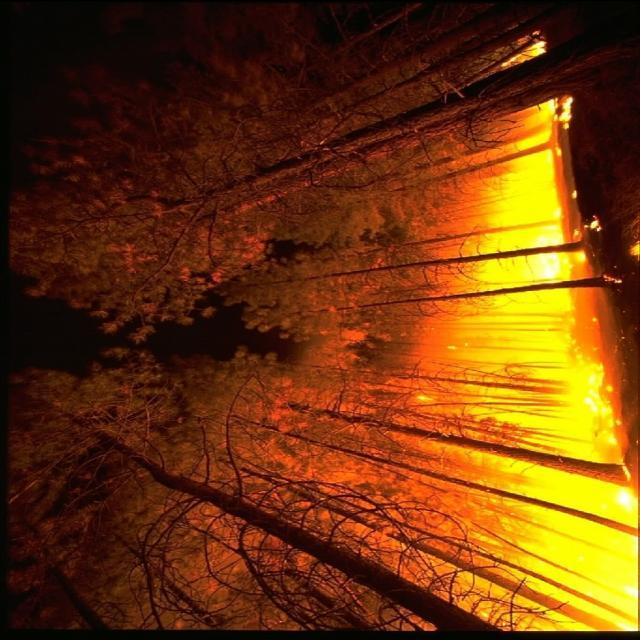Fire: (422, 33, 639, 640)
